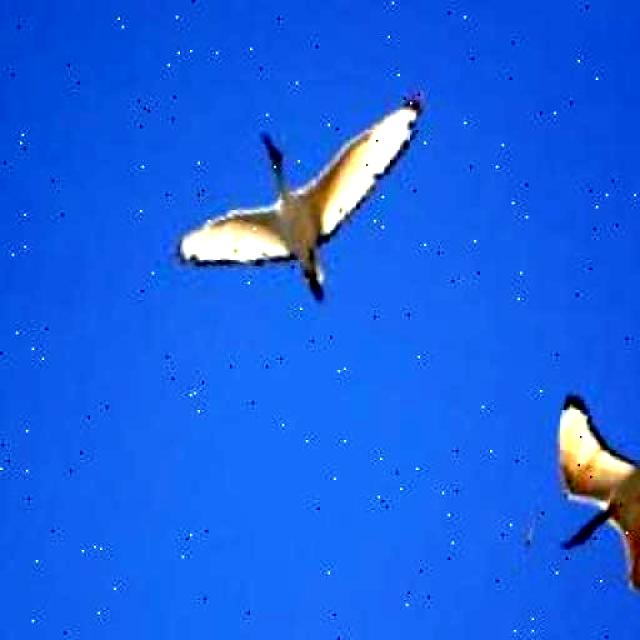airplane: (169, 45, 429, 325), (522, 380, 640, 614)
